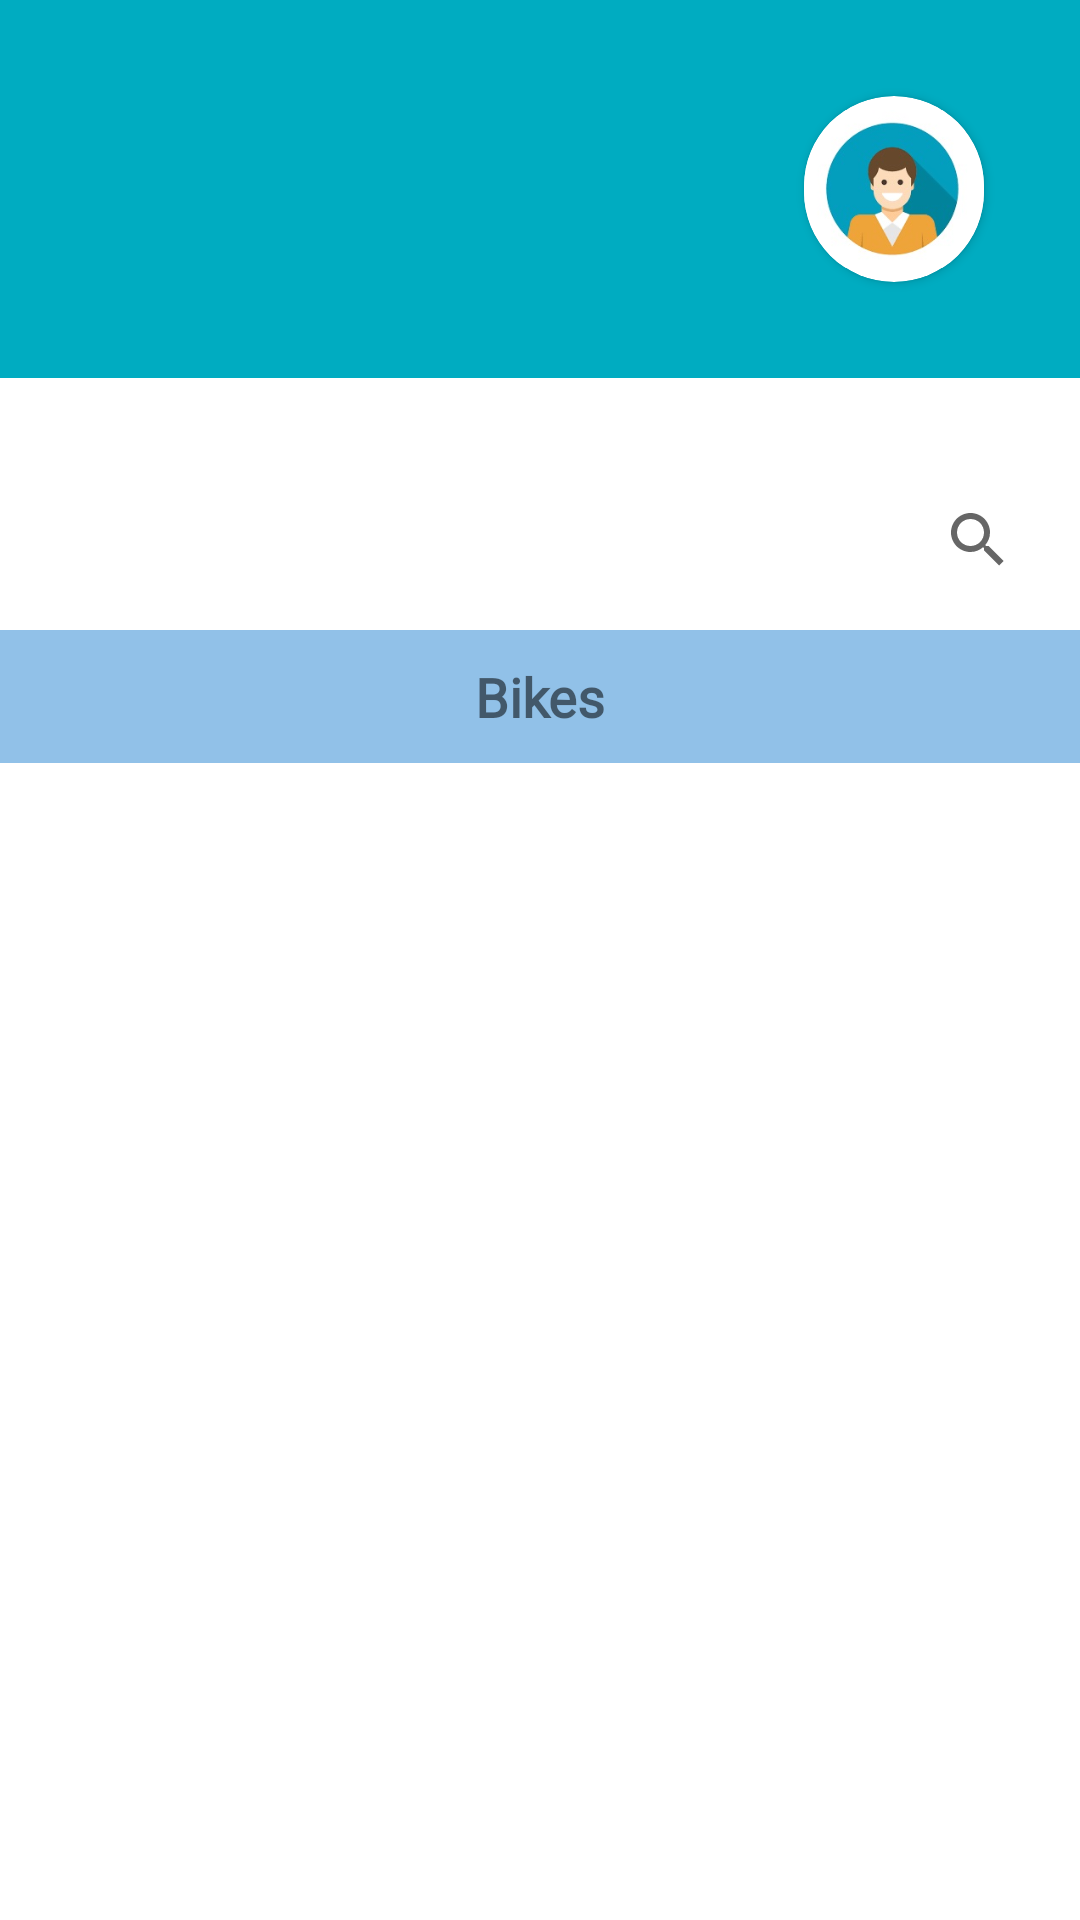

Screen size 1080 x 1920. Icon name, then its center in pixels as point (x, y):
user: point (894, 189)
